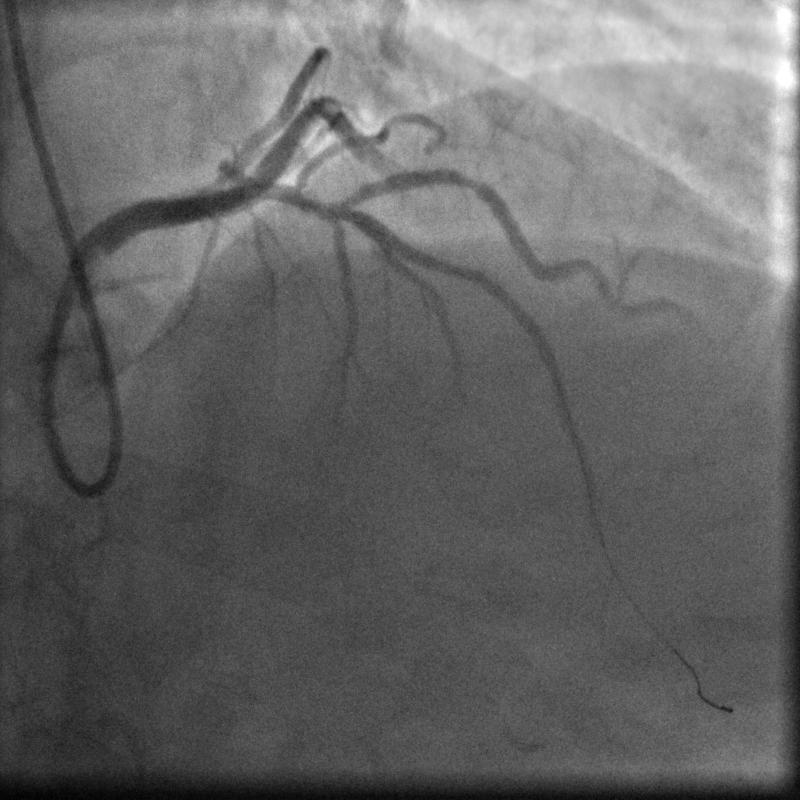Stenosis: (442, 164, 488, 205)
